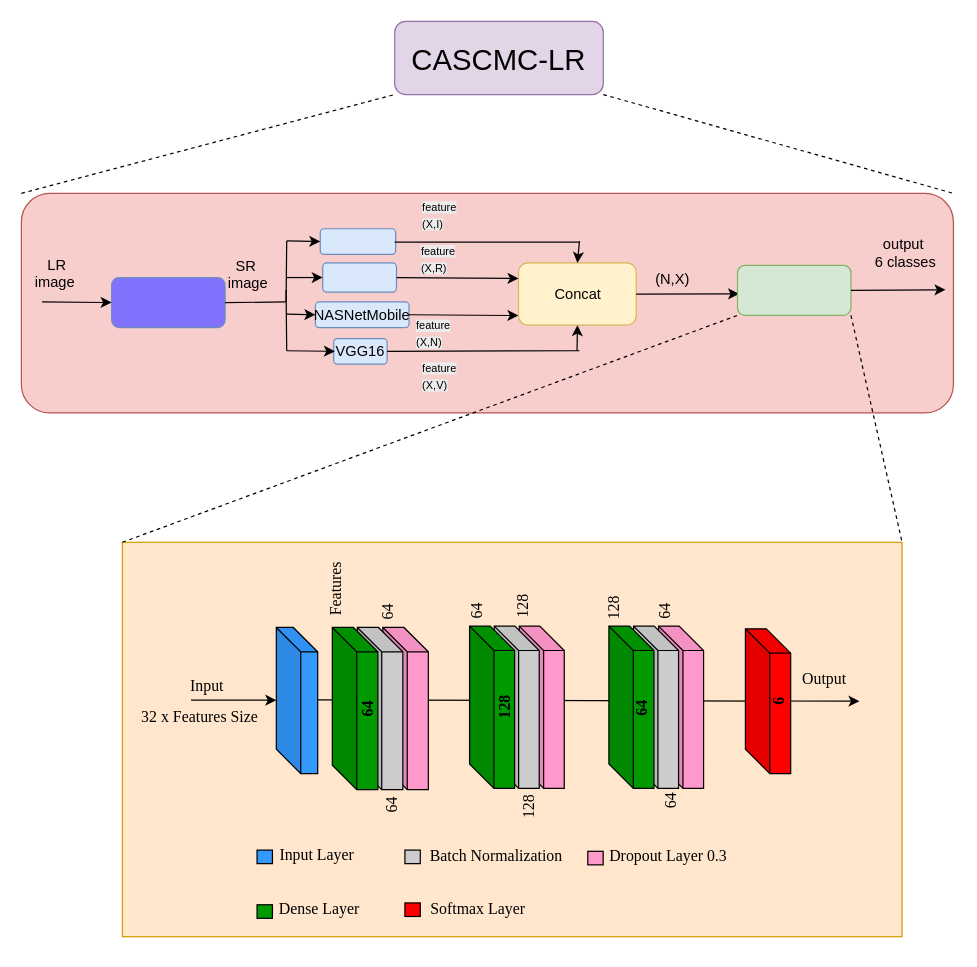
Image size: 977x967. Some labels were removed from this diagram. The shapes that lost their labels are listed below. From the top down, each one's centre as x and y in pixels, then its label:
At [357,241]: "InceptionV2".
At [358,277]: "ResNet101".
At [793,289]: "CMFC".
At [167,302]: "SuperGAN".
